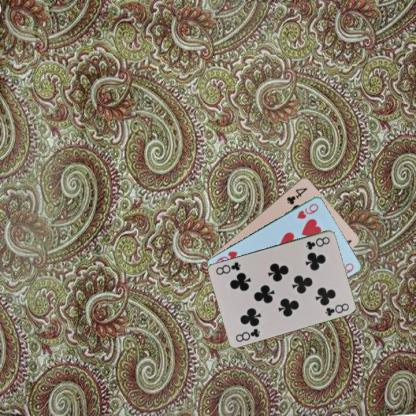4c: (284, 185, 308, 206)
8c: (303, 234, 331, 251), (233, 326, 261, 343)
9h: (294, 201, 320, 220)
